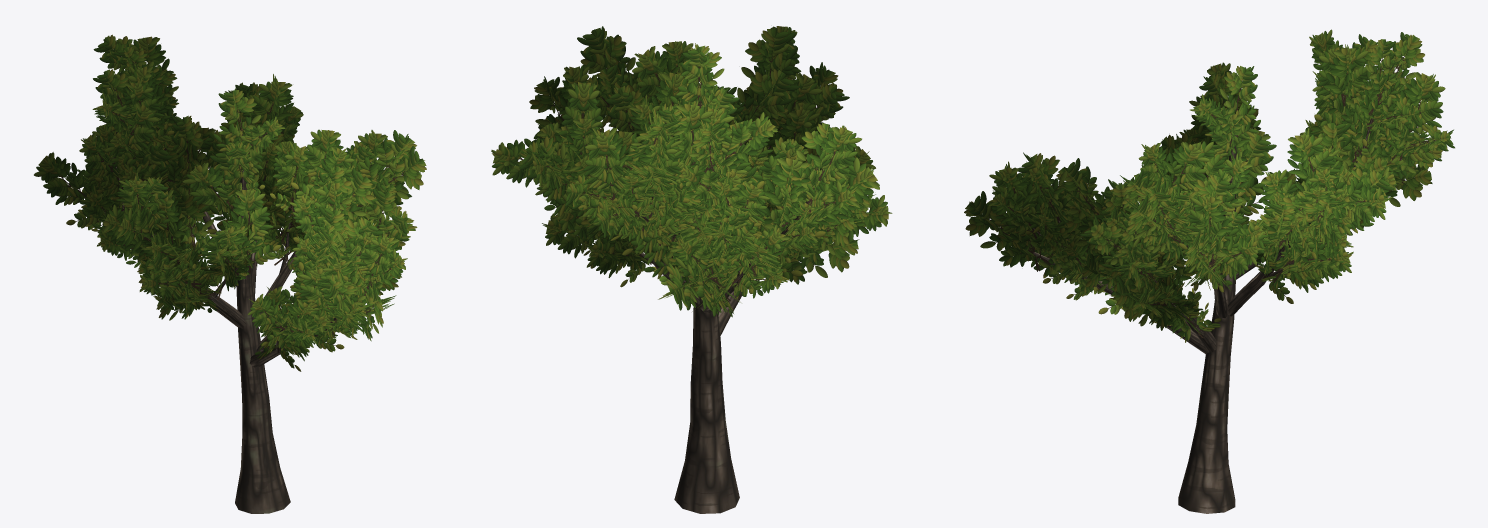
File: oak_wide.gltf
3 views of the same model, side by side, from view 1: azimuth 30°, elevation 25°; view 2: azimuth 150°, elevation 25°; view 3: azimuth 270°, elevation 25° (orthographic). The views are drawn at different scales.
Visible parts, largest first — view 1: oak_wide; view 2: oak_wide; view 3: oak_wide.
Part boxes in pixels (left/top/right/bottom): oak_wide: left=34, top=34, right=426, bottom=513; oak_wide: left=491, top=26, right=892, bottom=513; oak_wide: left=964, top=29, right=1454, bottom=513.
Bounding box in the file's own units: 7.57 × 9.36 × 9.79.
Materials: 2 (2 with a texture image).
